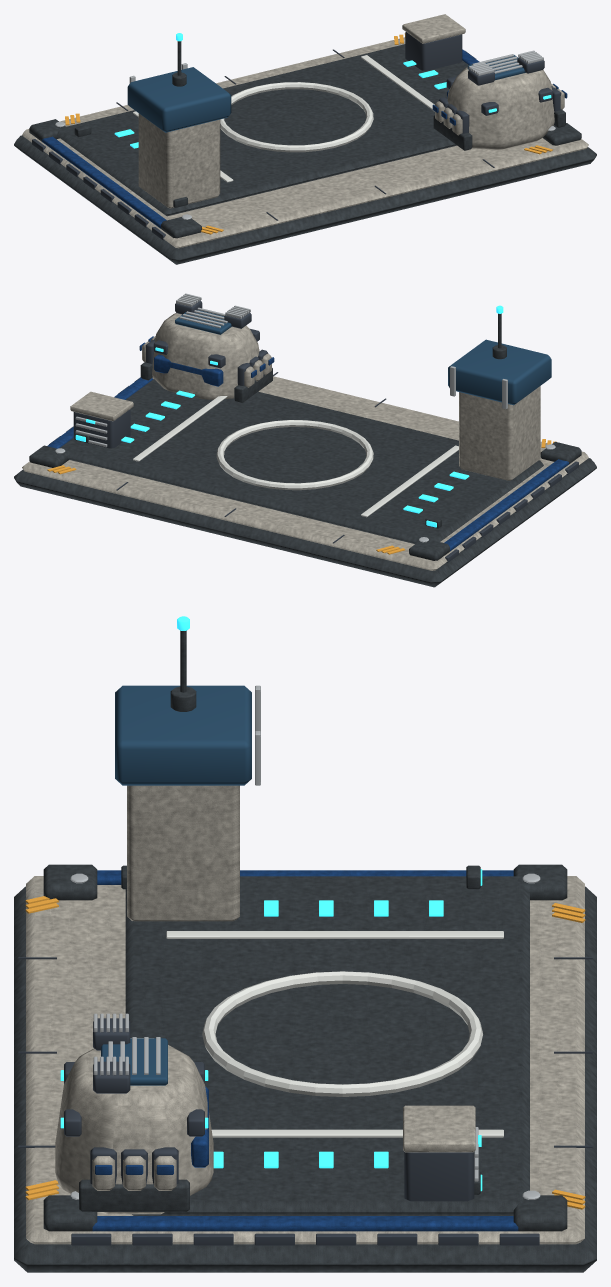
Rendered from solis_aerodrome.gltf.
The picture shows the model from 3 angles, top to bottom: view 1: azimuth 30°, elevation 25°; view 2: azimuth 150°, elevation 25°; view 3: azimuth 270°, elevation 25°; orthographic projection. The views are drawn at different scales.
Visible parts, largest first — view 1: Building.013_Geometry; view 2: Building.013_Geometry; view 3: Building.013_Geometry.
Part boxes in pixels (x1=…): Building.013_Geometry: x1=14, y1=14, x2=596, y2=264; Building.013_Geometry: x1=14, y1=293, x2=596, y2=587; Building.013_Geometry: x1=14, y1=616, x2=596, y2=1272.
Size of the model in its own units: 5.92 by 2.48 by 3.92.
9 materials, 3 textured.
